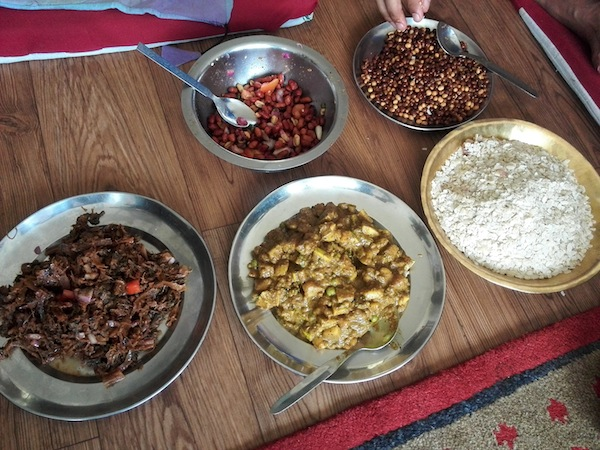gundruk: (10, 221, 176, 372)
